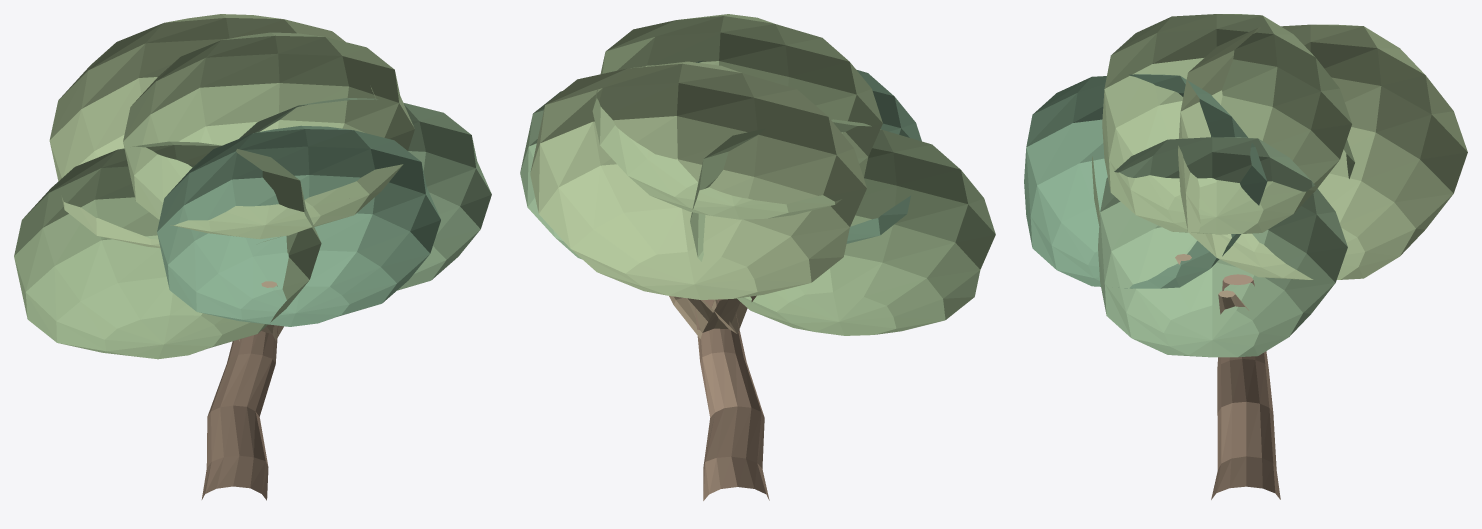
The model's file is oak_1000_3.glb.
3 views of the same model, side by side, from view 1: azimuth 30°, elevation 25°; view 2: azimuth 150°, elevation 25°; view 3: azimuth 270°, elevation 25° (orthographic). The views are drawn at different scales.
Visible parts, largest first — view 1: oak_1000_3_8, oak_1000_3_9, oak_1000_3_5, oak_1000_3_7, oak_1000_3_6, oak_1000_3_0; view 2: oak_1000_3_7, oak_1000_3_5, oak_1000_3_9, oak_1000_3_0, oak_1000_3_8, oak_1000_3_6, oak_1000_3_4, oak_1000_3_3; view 3: oak_1000_3_9, oak_1000_3_7, oak_1000_3_6, oak_1000_3_8, oak_1000_3_0.
Part boxes in pixels (x1=…): oak_1000_3_8: x1=157, y1=125, x2=440, y2=326; oak_1000_3_9: x1=123, y1=32, x2=414, y2=239; oak_1000_3_5: x1=14, y1=141, x2=321, y2=359; oak_1000_3_7: x1=49, y1=14, x2=375, y2=248; oak_1000_3_6: x1=239, y1=98, x2=491, y2=290; oak_1000_3_0: x1=201, y1=326, x2=278, y2=500; oak_1000_3_7: x1=530, y1=61, x2=866, y2=299; oak_1000_3_5: x1=690, y1=119, x2=995, y2=335; oak_1000_3_9: x1=592, y1=14, x2=882, y2=219; oak_1000_3_0: x1=695, y1=299, x2=769, y2=500; oak_1000_3_8: x1=696, y1=60, x2=921, y2=243; oak_1000_3_6: x1=520, y1=91, x2=582, y2=259; oak_1000_3_4: x1=669, y1=296, x2=736, y2=338; oak_1000_3_3: x1=702, y1=295, x2=756, y2=333; oak_1000_3_9: x1=1102, y1=14, x2=1351, y2=234; oak_1000_3_7: x1=1178, y1=24, x2=1467, y2=279; oak_1000_3_6: x1=1098, y1=137, x2=1347, y2=357; oak_1000_3_8: x1=1024, y1=74, x2=1267, y2=288; oak_1000_3_0: x1=1211, y1=274, x2=1280, y2=499.
Bounding box in the file's own units: 2.54 × 2.47 × 2.08.
